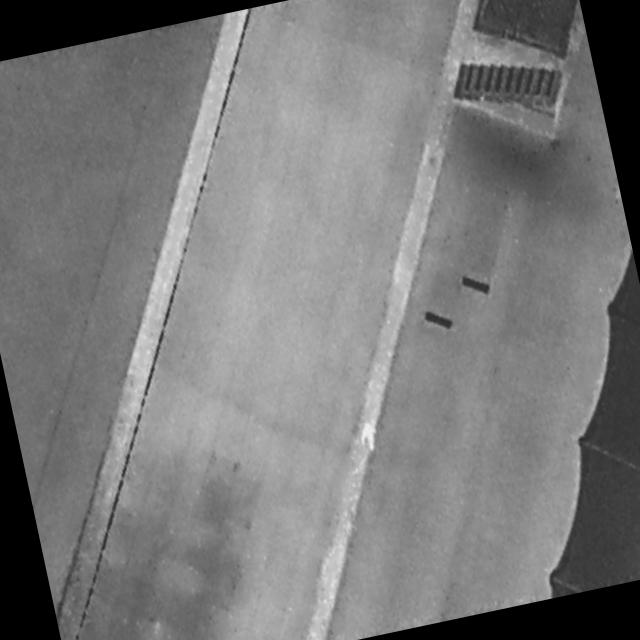person: (355, 419, 383, 457)
